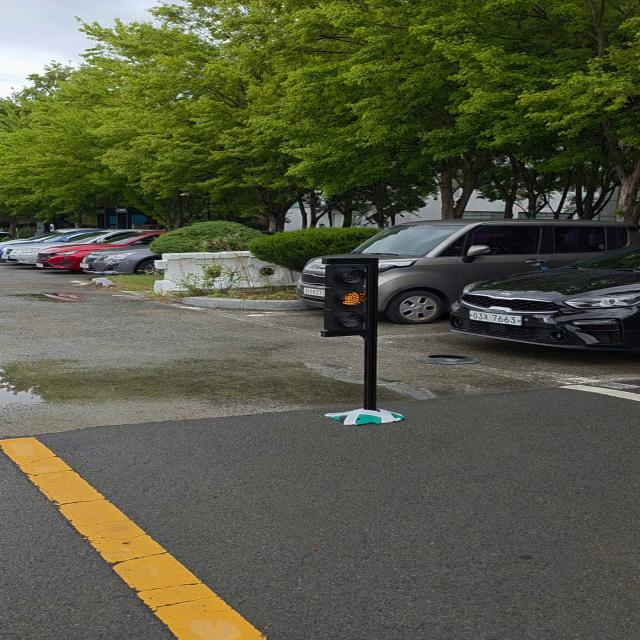yellow: (324, 255, 381, 342)
